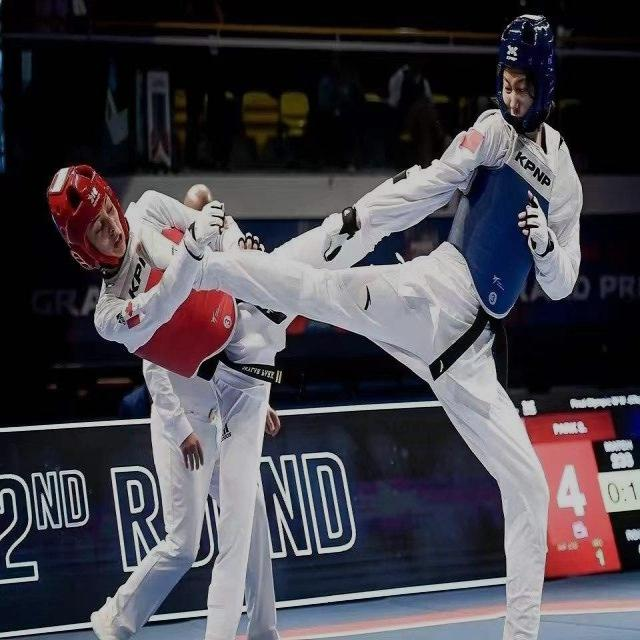fight: (24, 10, 584, 640)
